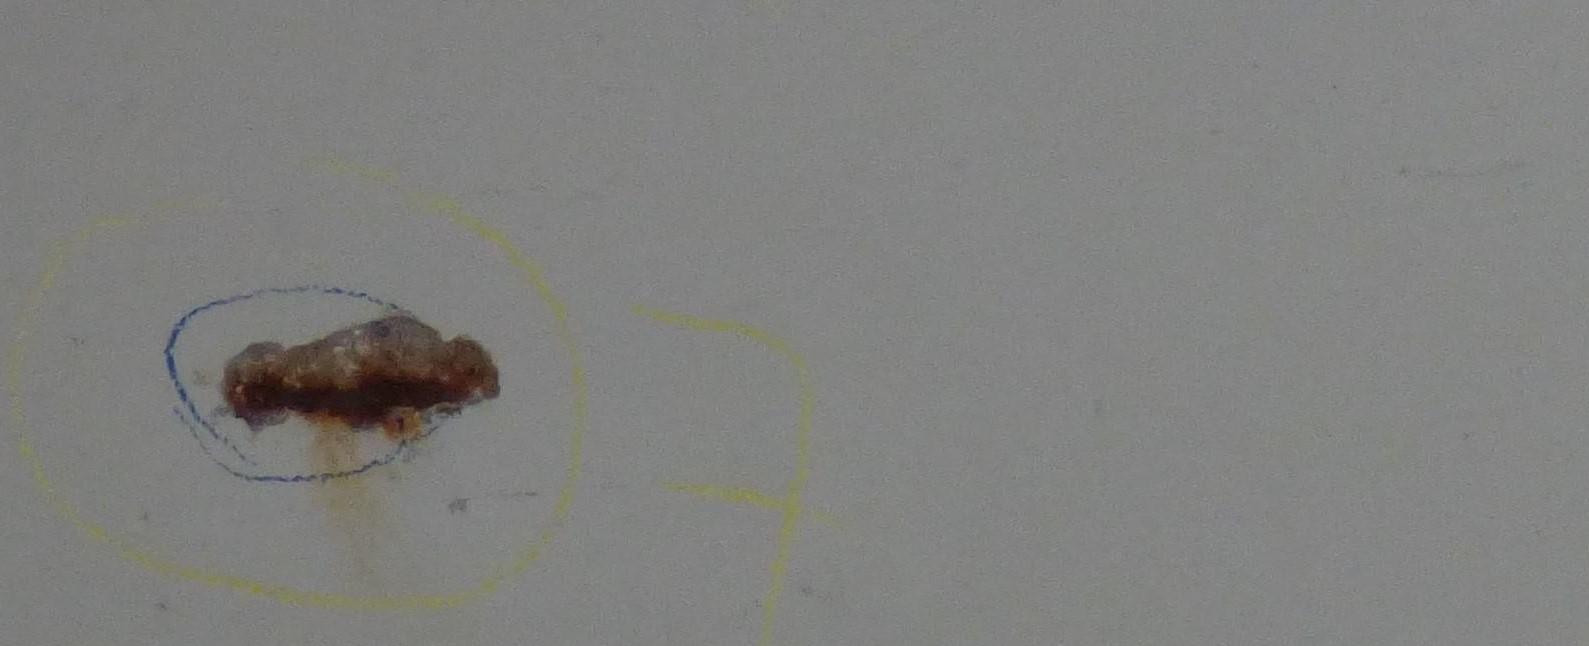Exposed reinforcement: (243, 372, 446, 416)
Spalling: (222, 312, 504, 439)
